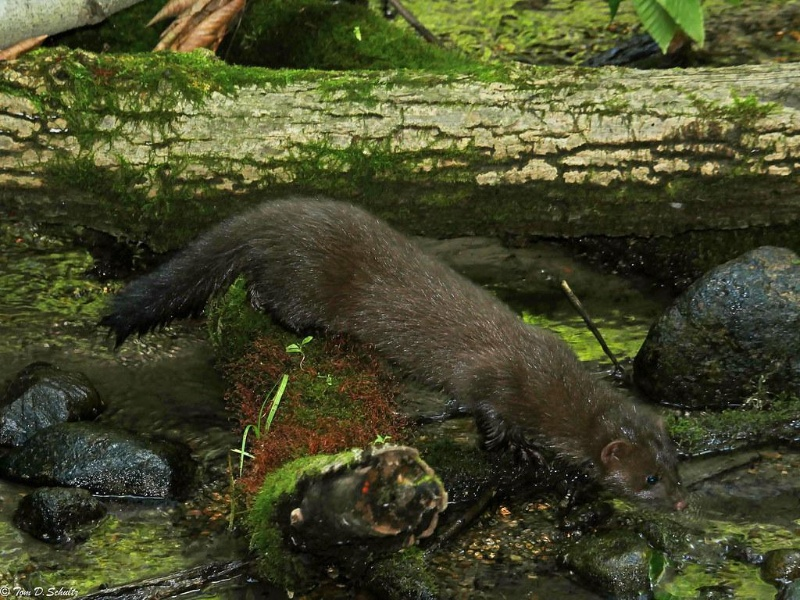minkish: (96, 196, 693, 516)
